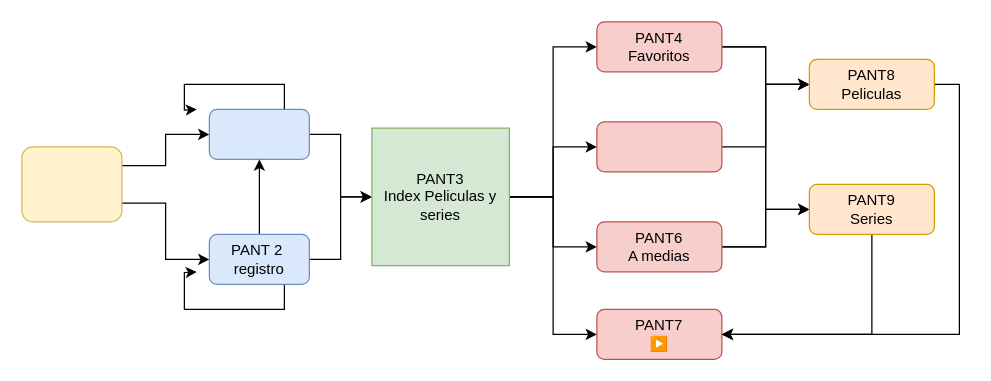
The diagram is 991 pixels wide and 381 high, and some of its shapes have lost their labels. The shapes that lost their labels are listed below. From the top down, each one's centre as x and y in pixels, then its label:
At (x=258, y=133): "PANT 1 inicio sesion".
At (x=659, y=146): "PANT5 Ya visto".
At (x=71, y=184): "PANT 0 index NERDFLIX".
